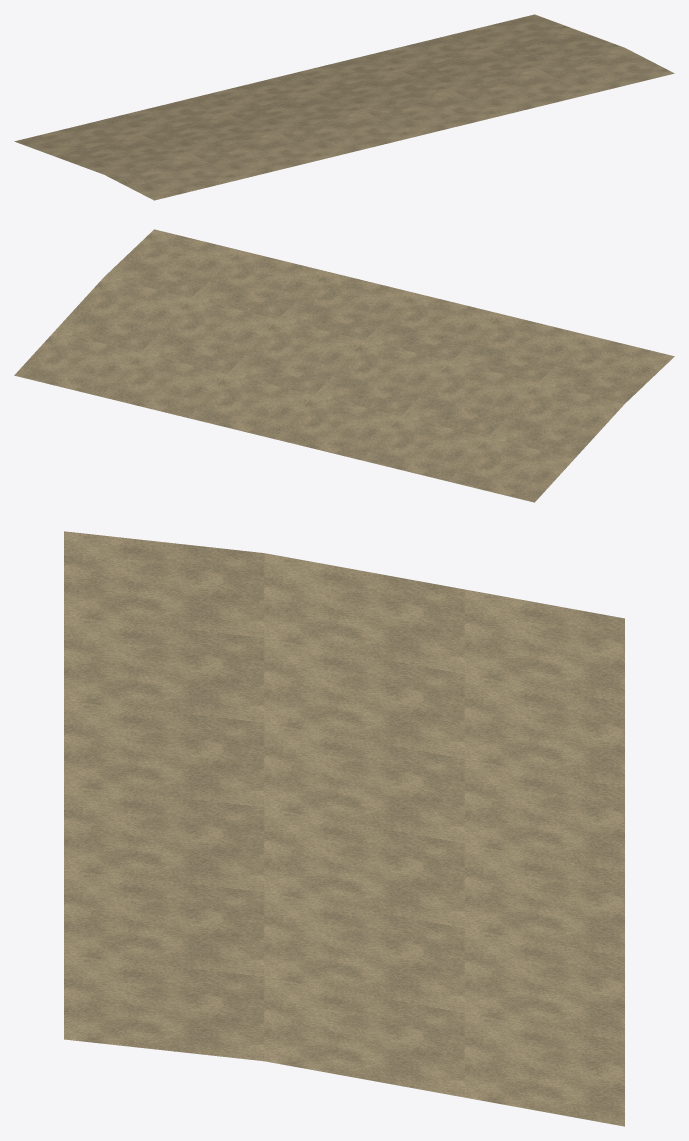
Rendered from river_bank_6m.glb.
3 renders of one model, top to bottom at view 1: azimuth 30°, elevation 25°; view 2: azimuth 150°, elevation 25°; view 3: azimuth 270°, elevation 25°, orthographic. The views are drawn at different scales.
Visible parts, largest first — view 1: river_bank_6m_Mesh; view 2: river_bank_6m_Mesh; view 3: river_bank_6m_Mesh.
Part boxes in pixels (x1,y1,x2,y2): river_bank_6m_Mesh: (14,14,674,200); river_bank_6m_Mesh: (14,229,674,502); river_bank_6m_Mesh: (64,531,624,1126).
Bounding box in the file's own units: 6 × 0.48 × 2.8.
Materials: 1 (1 with a texture image).
